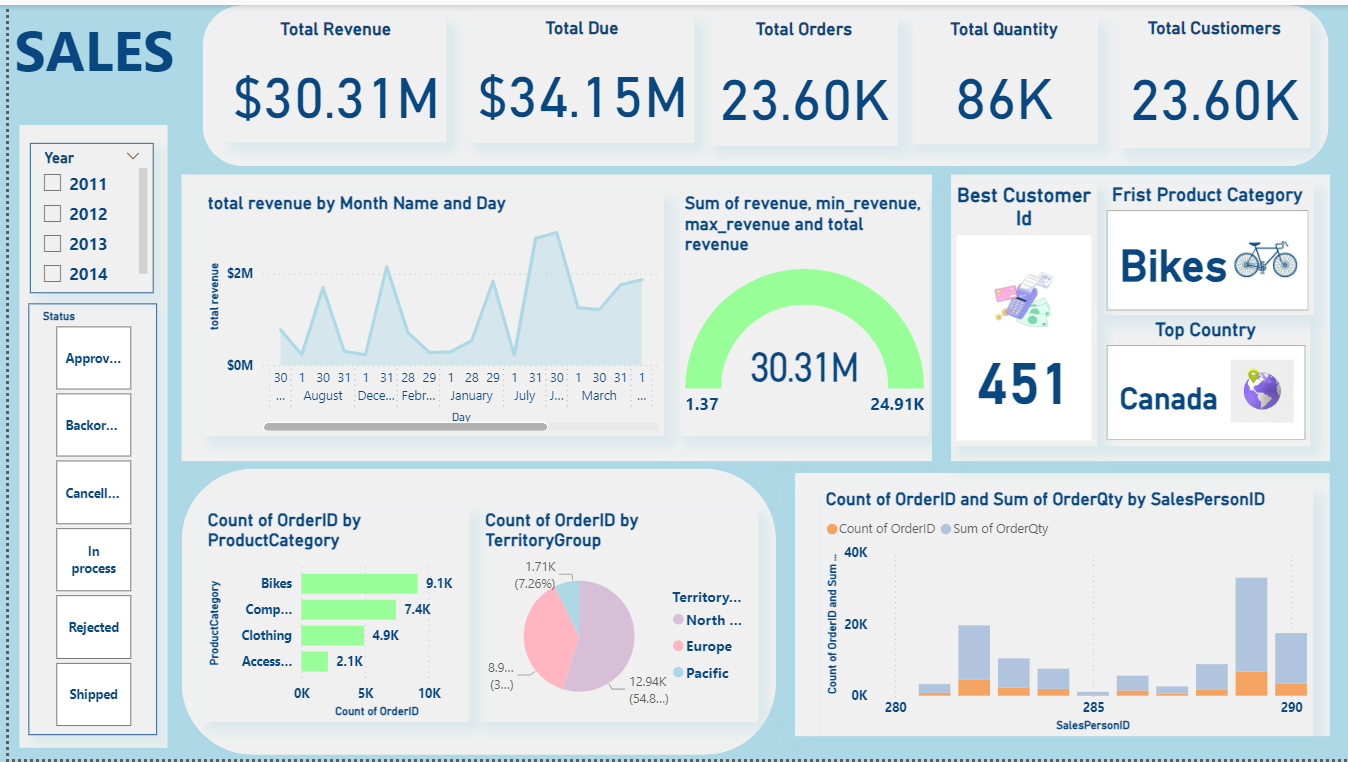

Layout of this report page (visuals, bound fields, positions):
{"tool":"powerbi","page":{"name":"Page 3","canvas":[1280,720],"ordinal":0},"visuals":[{"type":"textbox","box":[0,0,185.2,88.5],"z":0},{"type":"shape","box":[9.5,114.5,141.6,594.9],"z":1000},{"type":"slicer","fields":{"Values":["Dim order date.Year"]},"box":[22.9,130.3,118.9,143.2],"z":2000},{"type":"slicer","fields":{"Values":["Dim staus.Status"]},"box":[19.1,284.7,122.5,412],"z":3000},{"type":"shape","box":[185.2,0,1075.4,154.1],"z":4000},{"type":"card","title":"Total Revenue","fields":{"Values":["Fact Order.total revenue"]},"box":[206.6,13.1,211.5,118],"z":5000},{"type":"card","title":"Total Due","fields":{"Values":["Fact Order.total coast"]},"box":[439.3,11.5,214.8,119.7],"z":6000},{"type":"card","title":" Total Orders","fields":{"Values":["CountNonNull(Fact Order.OrderID)"]},"box":[668.9,13.1,180.3,121.3],"z":7000},{"type":"card","title":" Total Quantity","fields":{"Values":["Sum(Fact Order.OrderQty)"]},"box":[860.7,13.1,178.7,119.7],"z":8000},{"type":"shape","box":[165.4,161.6,716.7,273.7],"z":9000},{"type":"shape","box":[750.8,447,510.6,251.3],"z":10000},{"type":"columnChart","fields":{"Category":["Fact Order.SalesPersonID"],"Y":["CountNonNull(Fact Order.OrderID)","Sum(Fact Order.OrderQty)"]},"box":[774.6,461.3,470.8,237],"z":11000},{"type":"shape","box":[165.4,442.2,567.8,273.6],"z":12000},{"type":"pieChart","fields":{"Category":["Dimterritories.TerritoryGroup Hierarchy.TerritoryGroup","Dimterritories.TerritoryGroup Hierarchy.Territory"],"Y":["CountNonNull(Fact Order.OrderID)"]},"box":[450.1,482,265.6,203.6],"z":13000},{"type":"areaChart","fields":{"Category":["Dim order date.Month Name","Dim order date.Day"],"Y":["Fact Order.total revenue"]},"box":[184.9,179.2,440.4,232.6],"z":14000},{"type":"clusteredBarChart","fields":{"Y":["CountNonNull(Fact Order.OrderID)"],"Category":["Dimproduct.ProductCategory Hierarchy.ProductCategory","Dimproduct.ProductCategory Hierarchy.ProductSubCategory","Dimproduct.ProductCategory Hierarchy.Product"]},"box":[184.5,482,254.5,203.6],"z":15000},{"type":"card","title":"Total Custiomers","fields":{"Values":["CountNonNull(Fact Order.CustomerID)"]},"box":[1060.7,11.5,182,124.6],"z":16000},{"type":"shape","box":[900,162.3,362.3,273.8],"z":17000},{"type":"cardVisual","title":"Frist Product Category","fields":{"Data":["Min(Dimproduct.ProductCategory)"]},"box":[1042.6,170.5,203.3,126.2],"z":18000},{"type":"cardVisual","title":"Best Customer Id","fields":{"Data":["CountNonNull(Fact Order.CustomerID)"]},"box":[900,170.5,139.3,250.8],"z":19000},{"type":"cardVisual","title":"Top Country","fields":{"Data":["Min(Dimterritories.Territory)"]},"box":[1042.6,300,200,121.3],"z":20000},{"type":"gauge","fields":{"MinValue":["Fact Order.min_revenue"],"MaxValue":["Fact Order.max_revenue"],"Y":["Sum(Fact Order.revenue)"],"TargetValue":["Fact Order.total revenue"]},"box":[640.6,179.2,238.3,232.6],"z":21000}]}

Visuals, with their boxes in screenshot pixels (x1, y1, x2, y2), scaled from the page's 1280x720 canvas onto the 1348x762 screenshot:
textbox: select_region(0, 0, 195, 94)
shape: select_region(10, 121, 159, 751)
slicer - Dim order date.Year: select_region(24, 138, 149, 289)
slicer - Dim staus.Status: select_region(20, 301, 149, 737)
shape: select_region(195, 0, 1328, 163)
"Total Revenue" card: select_region(218, 14, 440, 139)
"Total Due" card: select_region(463, 12, 689, 139)
" Total Orders" card: select_region(704, 14, 894, 142)
" Total Quantity" card: select_region(906, 14, 1095, 141)
shape: select_region(174, 171, 929, 461)
shape: select_region(791, 473, 1328, 739)
columnChart - Fact Order.SalesPersonID x CountNonNull(Fact Order.OrderID): select_region(816, 488, 1312, 739)
shape: select_region(174, 468, 772, 758)
pieChart - Dimterritories.TerritoryGroup Hierarchy.TerritoryGroup x Dimterritories.TerritoryGroup Hierarchy.Territory: select_region(474, 510, 754, 726)
areaChart - Dim order date.Month Name x Dim order date.Day: select_region(195, 190, 659, 436)
clusteredBarChart - CountNonNull(Fact Order.OrderID) x Dimproduct.ProductCategory Hierarchy.ProductCategory: select_region(194, 510, 462, 726)
"Total Custiomers" card: select_region(1117, 12, 1309, 144)
shape: select_region(948, 172, 1329, 462)
"Frist Product Category" cardVisual: select_region(1098, 180, 1312, 314)
"Best Customer Id" cardVisual: select_region(948, 180, 1095, 446)
"Top Country" cardVisual: select_region(1098, 318, 1309, 446)
gauge - Fact Order.min_revenue x Fact Order.max_revenue: select_region(675, 190, 926, 436)
